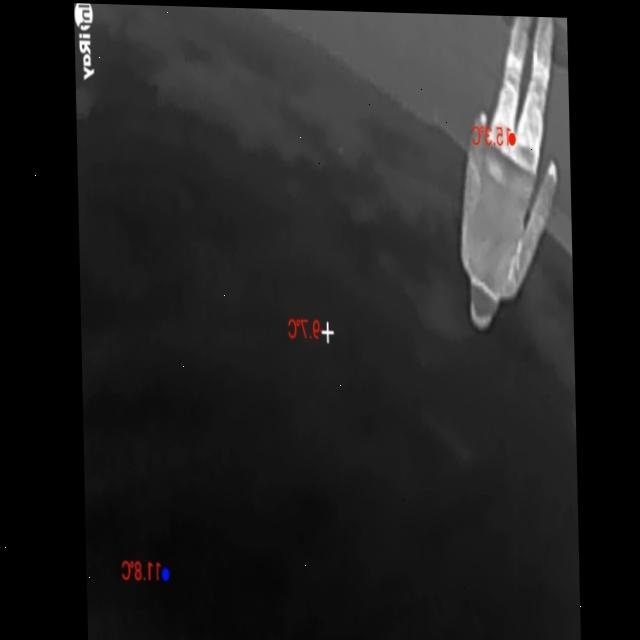drone: (336, 142, 344, 155)
